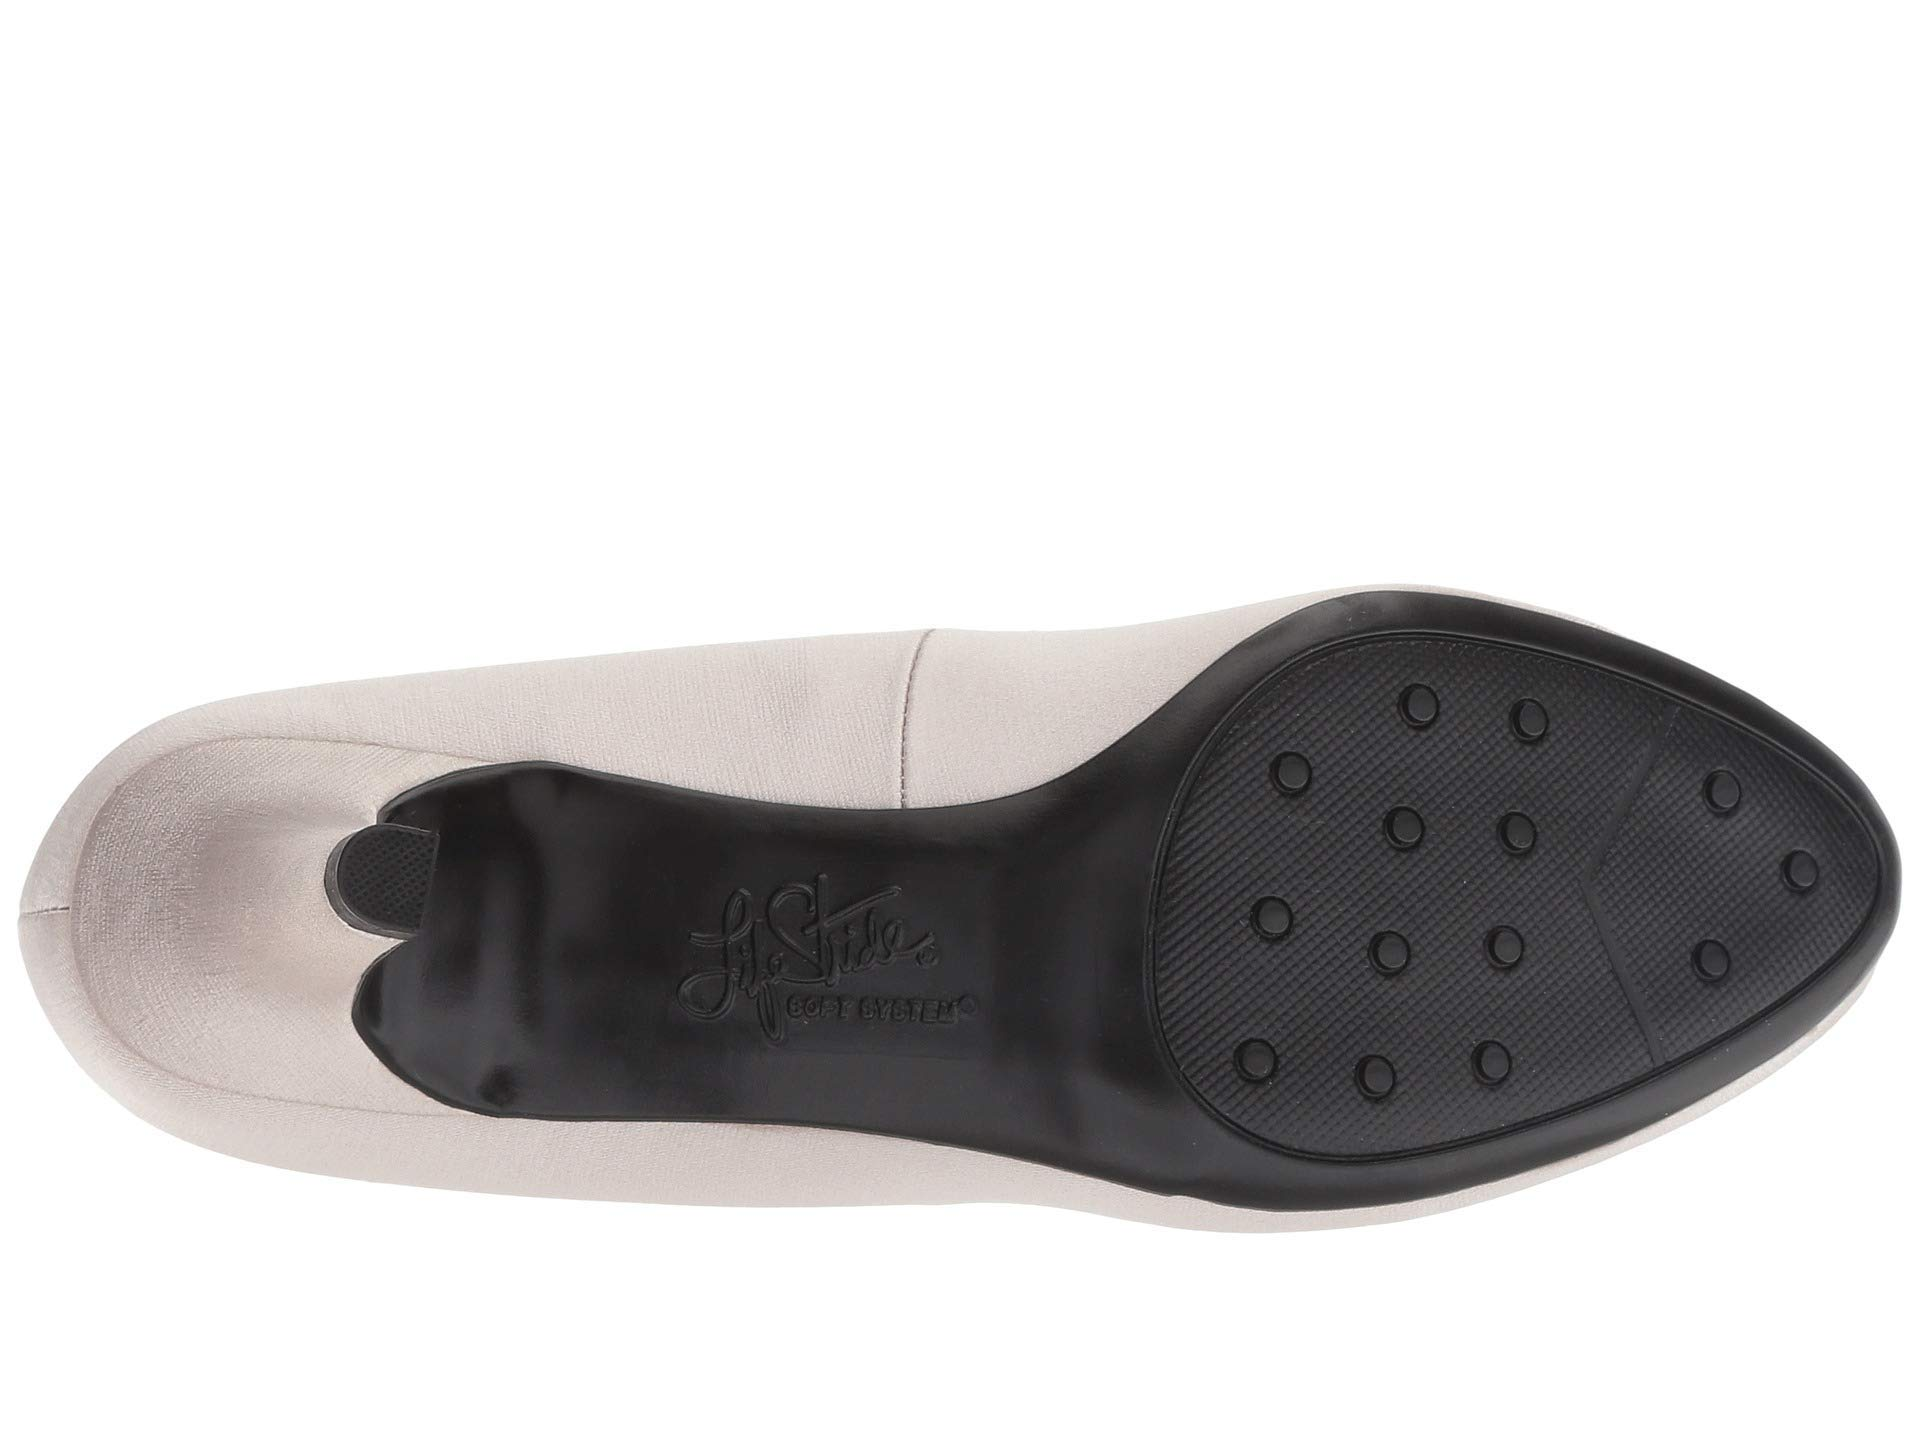circle: (1235, 708, 1565, 967)
exclude: (444, 743, 1128, 1215)
quad: (1235, 708, 1565, 967)
